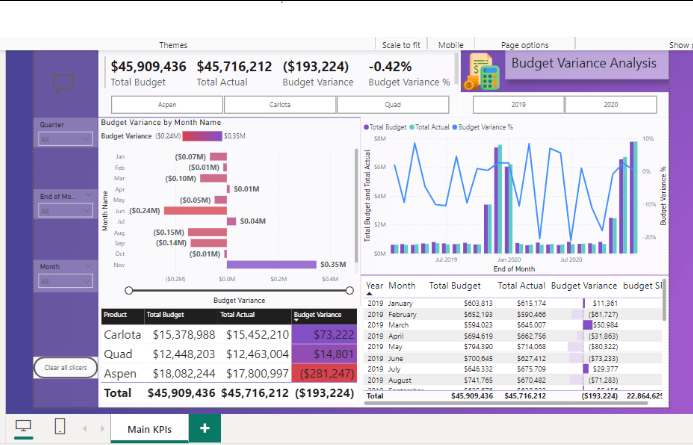

What the dashboard file says about the page in this screenshot:
{"tool":"powerbi","page":{"name":"Main KPIs","canvas":[1280,720],"ordinal":0},"visuals":[{"type":"multiRowCard","fields":{"Values":["__Measures.Total Budget","__Measures.Total Actual","__Measures.Actual Variance","__Measures.Actual Variance %"]},"box":[130,0,730,85],"z":0},{"type":"lineClusteredColumnComboChart","fields":{"Category":["dCalendar.End of Month"],"Y":["__Measures.Total Budget","__Measures.Total Actual"],"Y2":["__Measures.Actual Variance %"]},"box":[658.3,133.3,621.7,318.3],"z":1000},{"type":"tableEx","fields":{"Values":["dCalendar.Date.Variation.Date Hierarchy.Year","dCalendar.Date.Variation.Date Hierarchy.Month","__Measures.Total Budget","__Measures.Total Actual","__Measures.Actual Variance","__Measures.budget SPLY"]},"box":[658.3,453.3,621.7,266.7],"z":2000},{"type":"clusteredBarChart","fields":{"Category":["dCalendar.Month Name"],"Y":["__Measures.Actual Variance"]},"box":[130,135,528.3,380],"z":3000},{"type":"tableEx","fields":{"Values":["dProduct.Product","__Measures.Total Budget","__Measures.Total Actual","__Measures.Actual Variance"]},"box":[130,515,530,205],"z":4000},{"type":"textbox","box":[950,0,330,58.3],"z":5000},{"type":"slicer","fields":{"Values":["dProduct.Product"]},"box":[130,85,730,50],"z":6000},{"type":"shape","box":[0,0,130,720],"z":7000},{"type":"actionButton","box":[35,43.3,81.7,51.7],"z":8000},{"type":"slicer","fields":{"Values":["dCalendar.Year"]},"box":[860,85,420,50],"z":9000},{"type":"image","box":[855,0,95,85],"z":10000},{"type":"slicer","fields":{"Values":["dCalendar.Quarter"]},"box":[0,135,130,60],"z":11000},{"type":"slicer","fields":{"Values":["dCalendar.Month"]},"box":[0,421.7,130,65],"z":12000},{"type":"slicer","fields":{"Values":["dCalendar.End of Month"]},"box":[0,280,130,60],"z":13000},{"type":"actionButton","box":[0,618.3,130,43.3],"z":14000}]}

Visuals, with their boxes on the page's 1280x720 design canvas (x1, y1, x2, y2). These are canvas units, not pixel positions in the 693x445 screenshot, which may show the page scaled, cropped or inside an application window:
multiRowCard - __Measures.Total Budget x __Measures.Total Actual: x1=130, y1=0, x2=860, y2=85
lineClusteredColumnComboChart - dCalendar.End of Month x __Measures.Total Budget: x1=658, y1=133, x2=1280, y2=452
tableEx - dCalendar.Date.Variation.Date Hierarchy.Year x dCalendar.Date.Variation.Date Hierarchy.Month: x1=658, y1=453, x2=1280, y2=720
clusteredBarChart - dCalendar.Month Name x __Measures.Actual Variance: x1=130, y1=135, x2=658, y2=515
tableEx - dProduct.Product x __Measures.Total Budget: x1=130, y1=515, x2=660, y2=720
textbox: x1=950, y1=0, x2=1280, y2=58
slicer - dProduct.Product: x1=130, y1=85, x2=860, y2=135
shape: x1=0, y1=0, x2=130, y2=720
actionButton: x1=35, y1=43, x2=117, y2=95
slicer - dCalendar.Year: x1=860, y1=85, x2=1280, y2=135
image: x1=855, y1=0, x2=950, y2=85
slicer - dCalendar.Quarter: x1=0, y1=135, x2=130, y2=195
slicer - dCalendar.Month: x1=0, y1=422, x2=130, y2=487
slicer - dCalendar.End of Month: x1=0, y1=280, x2=130, y2=340
actionButton: x1=0, y1=618, x2=130, y2=662
